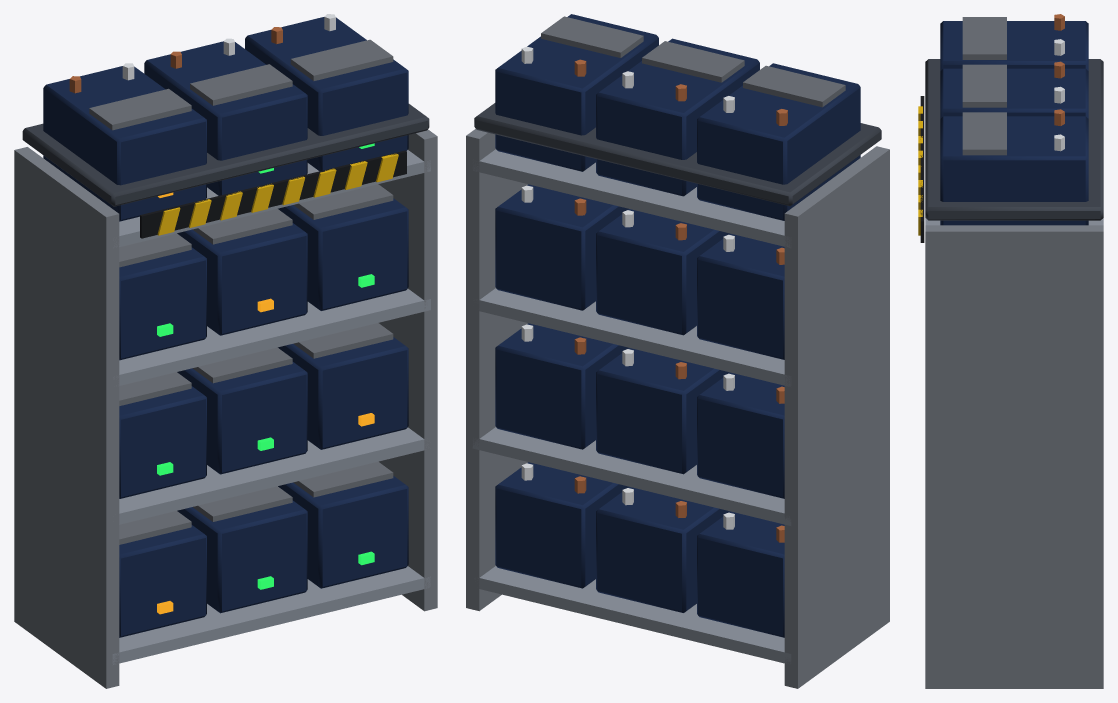
The model's file is capacitor_battery_rack.glb.
The picture shows the model from 3 angles, left to right: view 1: azimuth 30°, elevation 25°; view 2: azimuth 150°, elevation 25°; view 3: azimuth 270°, elevation 25°; orthographic projection. The views are drawn at different scales.
Parts seen in each view (by area): view 1: capacitor_battery_rack; view 2: capacitor_battery_rack; view 3: capacitor_battery_rack.
Boxes of the visible parts, x1,y1,x2,y2 form: capacitor_battery_rack: (14,14,437,688); capacitor_battery_rack: (466,14,889,688); capacitor_battery_rack: (918,14,1103,688).
Size of the model in its own units: 1.25 by 1.99 by 0.6238.
